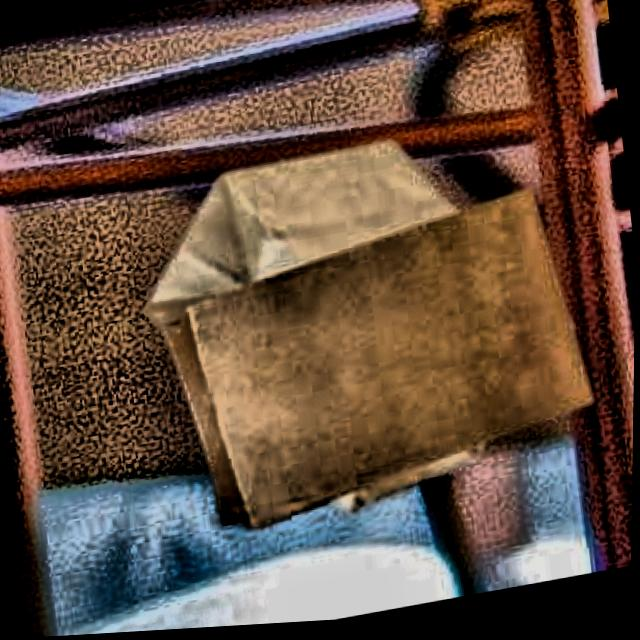Paper-bag: (115, 106, 535, 547), (143, 173, 610, 554)
